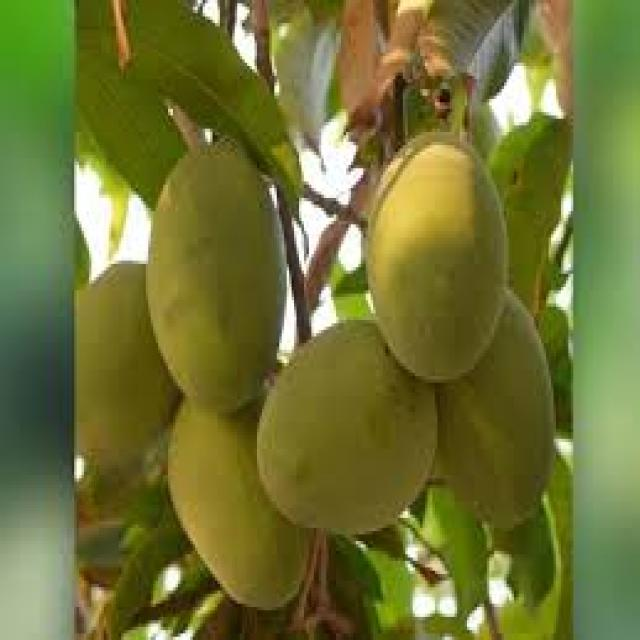mango: (366, 132, 512, 383)
